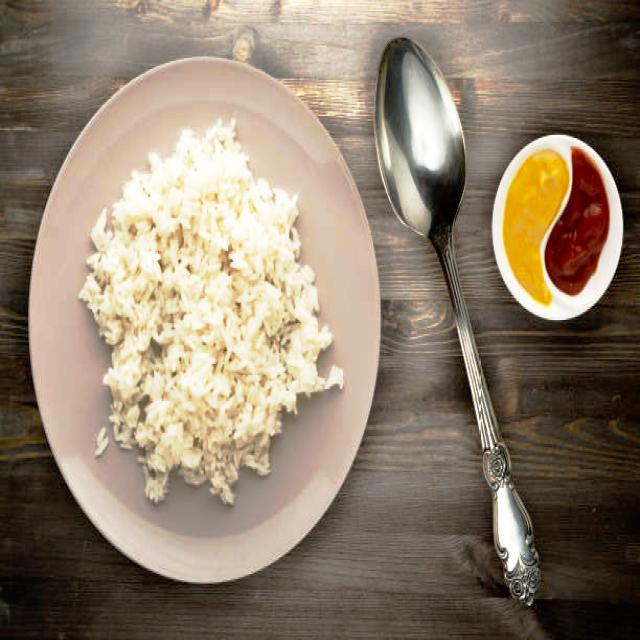rice: (81, 116, 345, 507)
